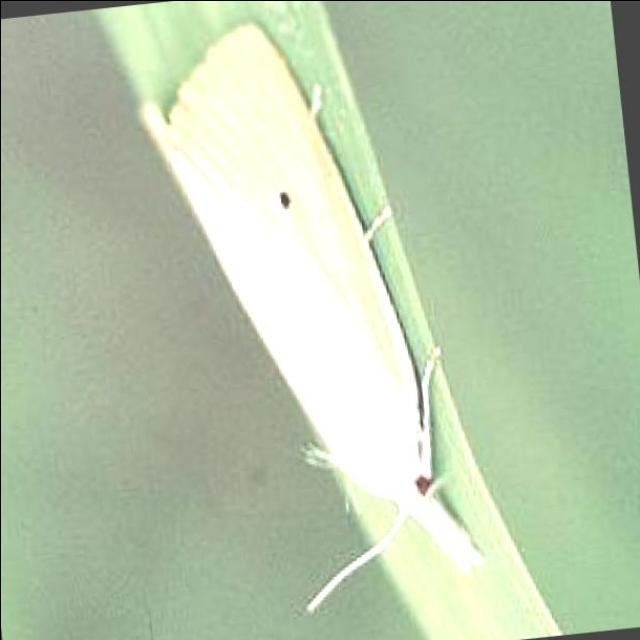stem borer: (142, 23, 482, 610)
